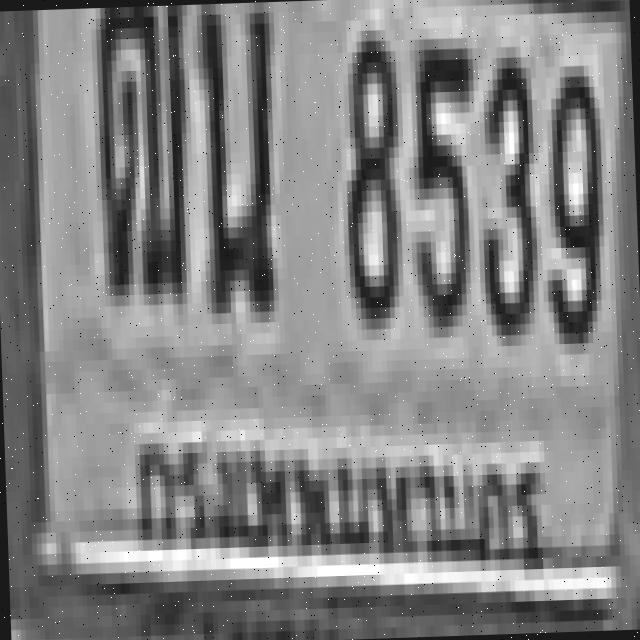27ThorPhuThao: (90, 4, 186, 296)
3: (472, 46, 534, 336)
34NorNu: (194, 2, 276, 303)
5: (404, 21, 476, 322)
8: (336, 19, 399, 318)
9: (534, 54, 602, 333)
Bangkok: (117, 390, 556, 594)
